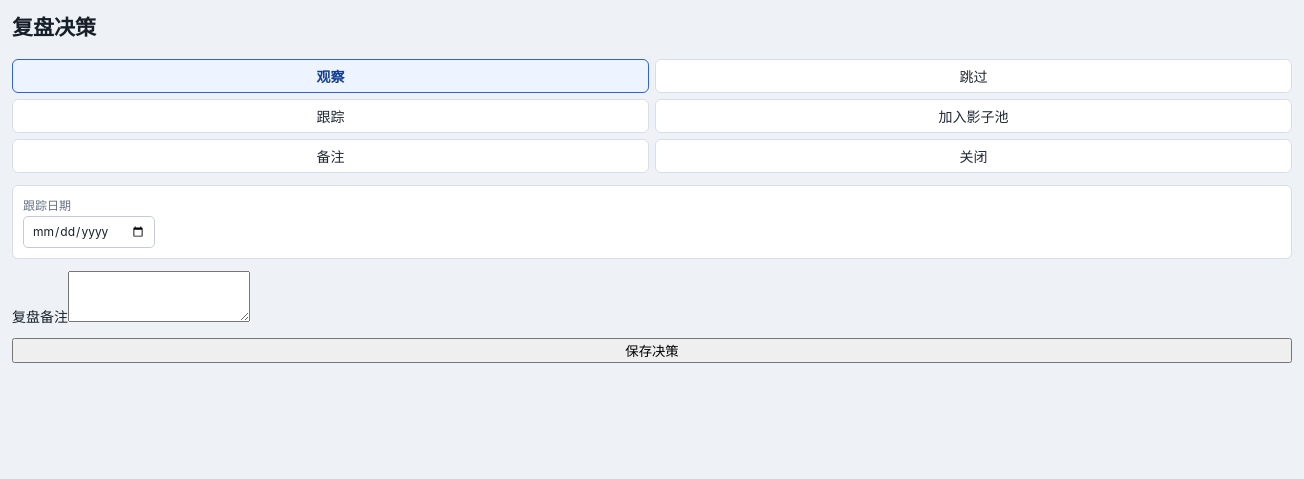
Test: OperatorDecisionPanel › submits a note with digest lineage and shows linked snapshot status
The image size is (1304, 479).
Type "观察回踩确认" into the text box named "operator note".
click(159, 296); type("观察回踩确认")  # box x1=68 y1=271 x2=250 y2=322
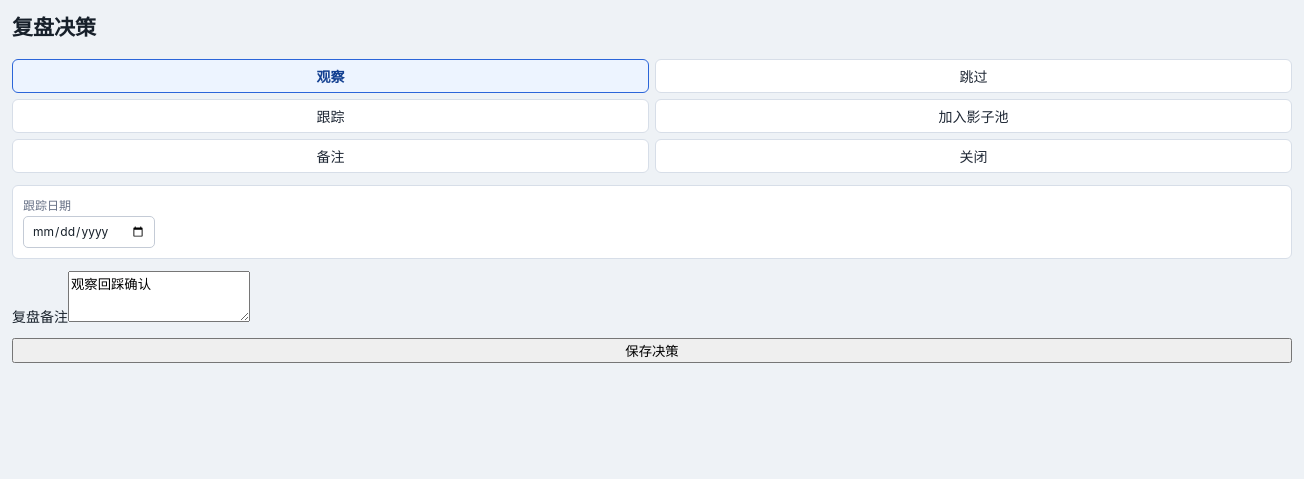
Click the button with aria-label "Save decision".
click(652, 350)  # box x1=12 y1=338 x2=1292 y2=363
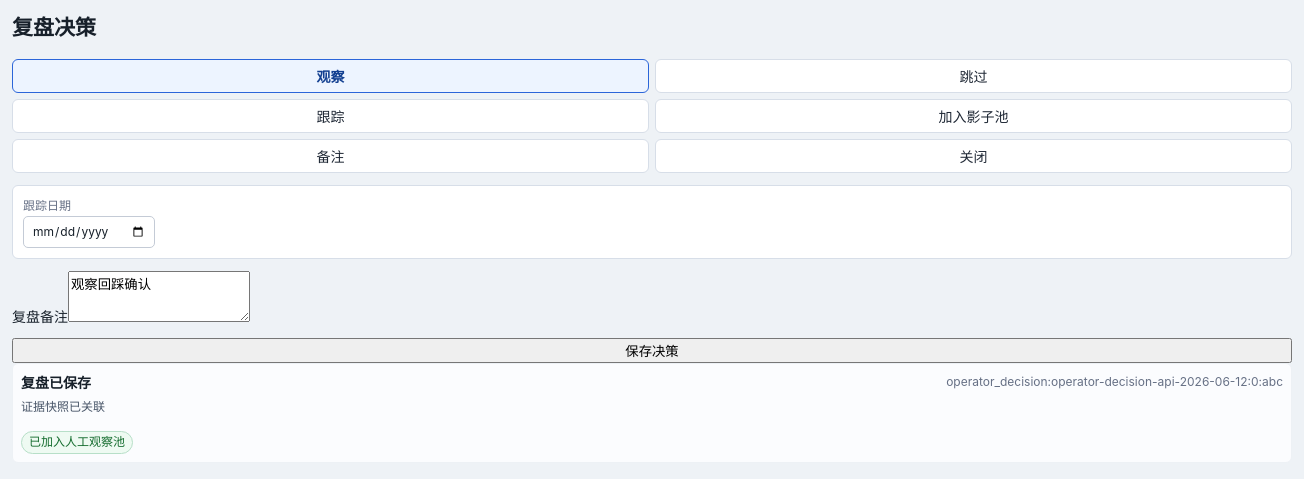
Check: the text "复盘已保存" is shown, box x1=21 y1=372 x2=91 y2=392
Check: the text "已加入人工观察池" is shown, box x1=21 y1=431 x2=133 y2=454
Check: the text "证据快照已关联" is shown, box x1=21 y1=399 x2=105 y2=414
